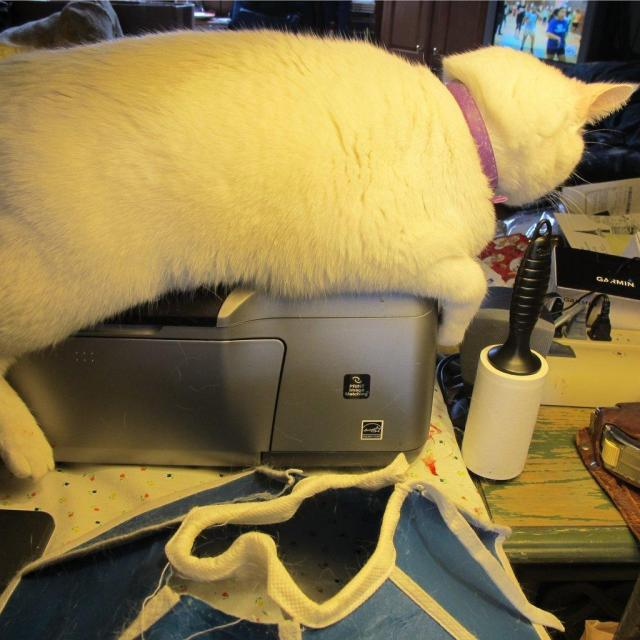table: (429, 340, 639, 571)
